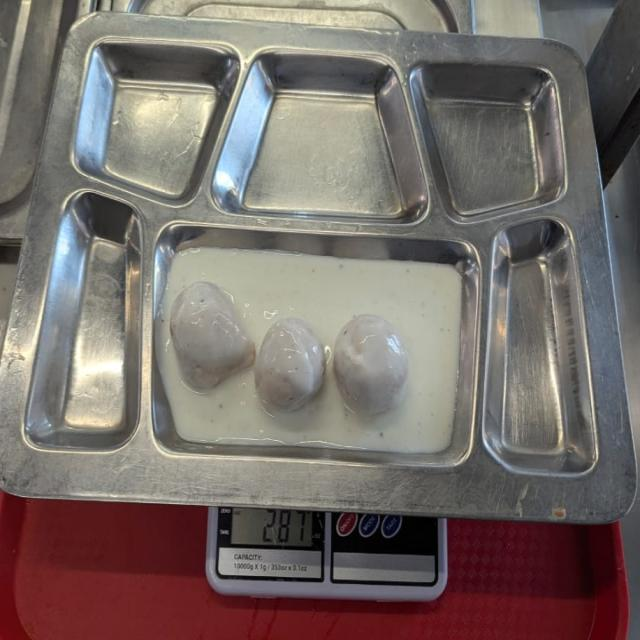Dahi Bhalle: (156, 246, 462, 455)
